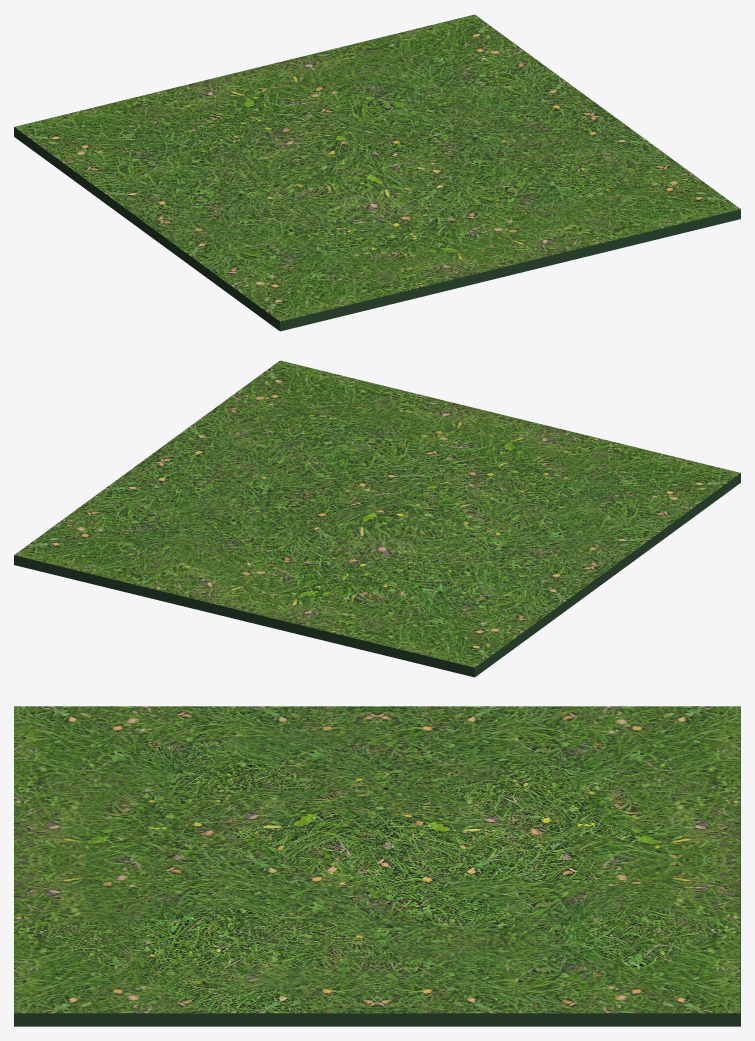
Rendered from floor.fbx.
The picture shows the model from 3 angles, top to bottom: view 1: azimuth 30°, elevation 25°; view 2: azimuth 150°, elevation 25°; view 3: azimuth 270°, elevation 25°; orthographic projection. The views are drawn at different scales.
Parts seen in each view (by area): view 1: floor; view 2: floor; view 3: floor.
Boxes of the visible parts, left/top/right/bottom form: floor: left=14, top=14, right=740, bottom=331; floor: left=14, top=360, right=740, bottom=677; floor: left=14, top=706, right=740, bottom=1026.
Bounding box in the file's own units: 2683 × 159 × 2683.
